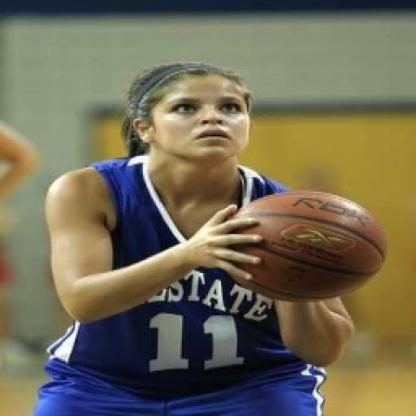basketball: (230, 188, 388, 306)
